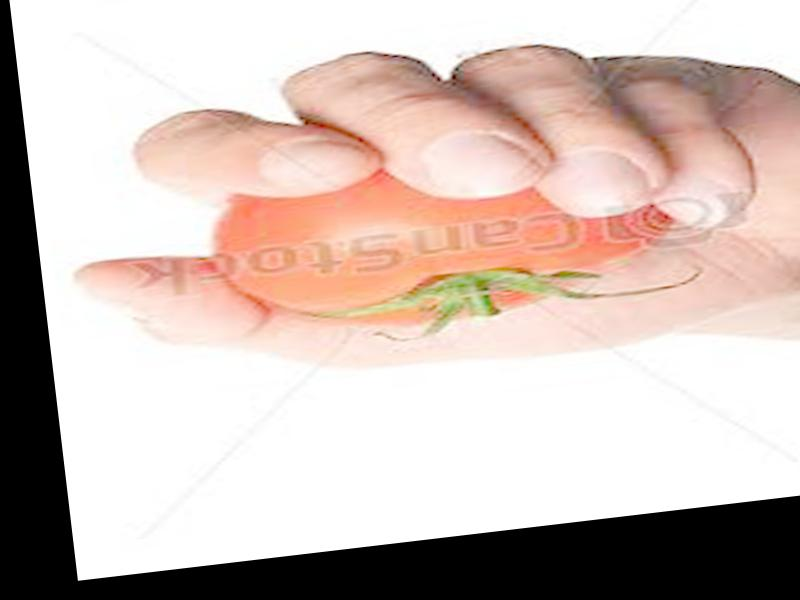Tomato: (207, 140, 677, 344)
